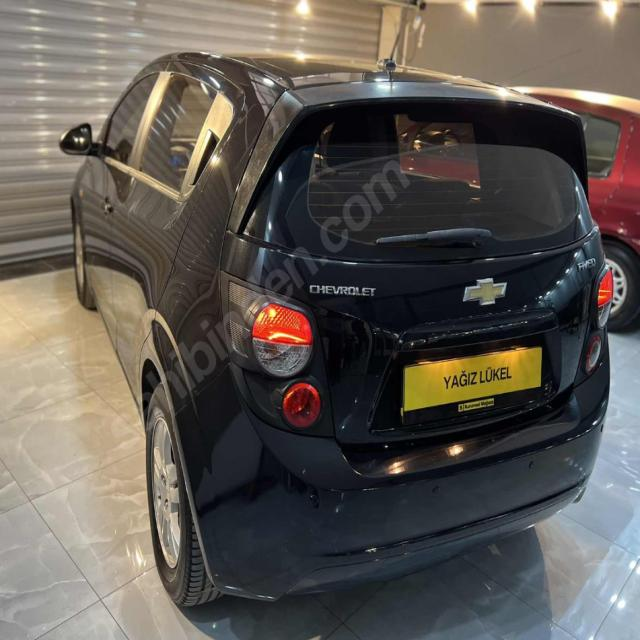chevrolet: (462, 274, 509, 308)
